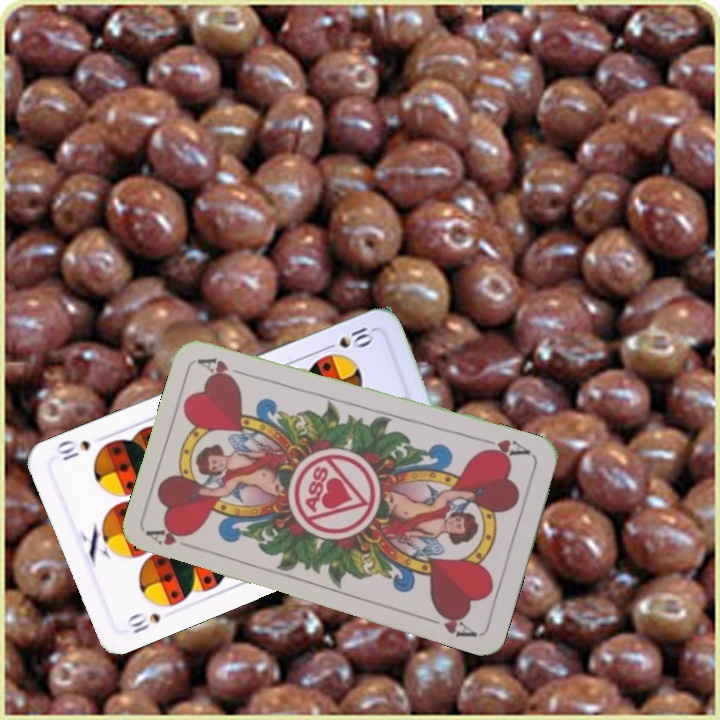HA: (476, 434, 534, 462), (144, 522, 196, 548)
S10: (319, 321, 376, 353), (122, 609, 164, 637)
